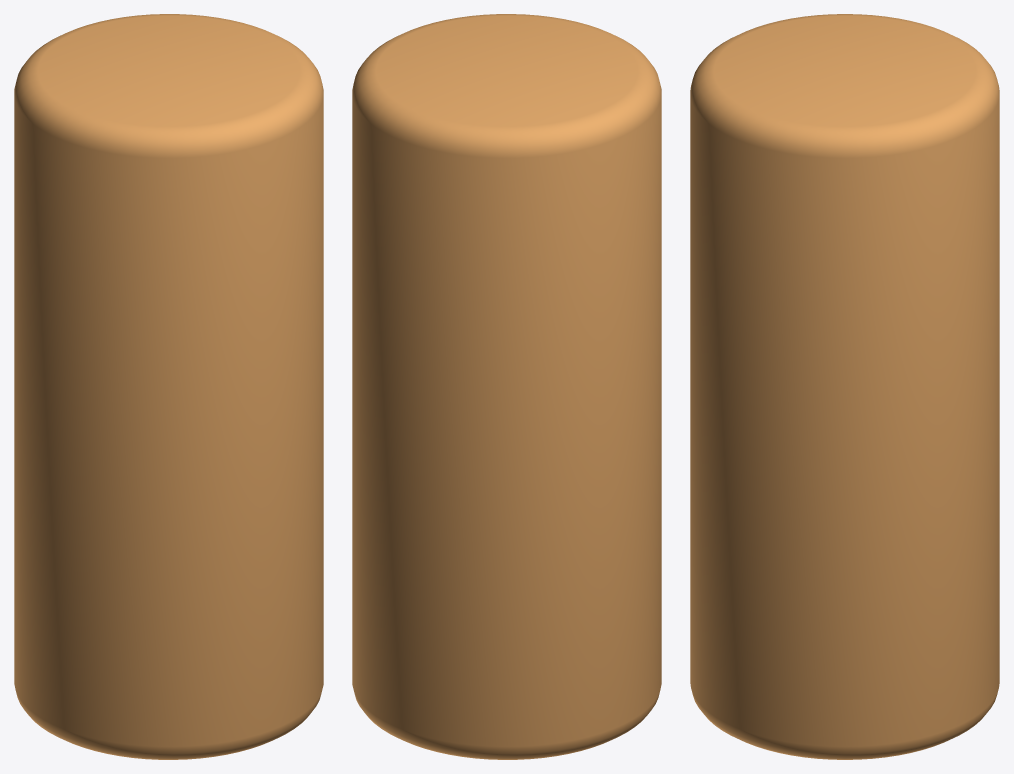
Rendered from cylindre.fbx.
3 views of the same model, side by side, from view 1: azimuth 30°, elevation 25°; view 2: azimuth 150°, elevation 25°; view 3: azimuth 270°, elevation 25° (orthographic).
Parts seen in each view (by area): view 1: Cylinder; view 2: Cylinder; view 3: Cylinder.
Boxes of the visible parts, x1,y1,x2,y2 form: Cylinder: (14,14,323,759); Cylinder: (352,14,661,759); Cylinder: (690,14,999,759).
Size of the model in its own units: 80 by 180 by 80.
